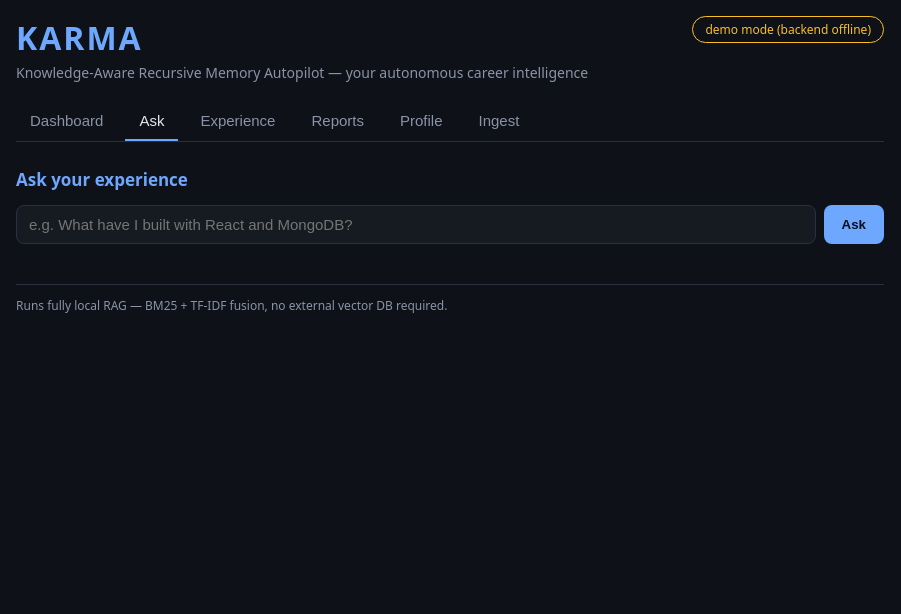
Scenario: failure feedback + demo fallback correctness › demo data appears via API error (headline regression) when runs fail with HTTP error
Click the button with test id "tab-Dashboard" at (67, 122), box [16, 102, 117, 141]
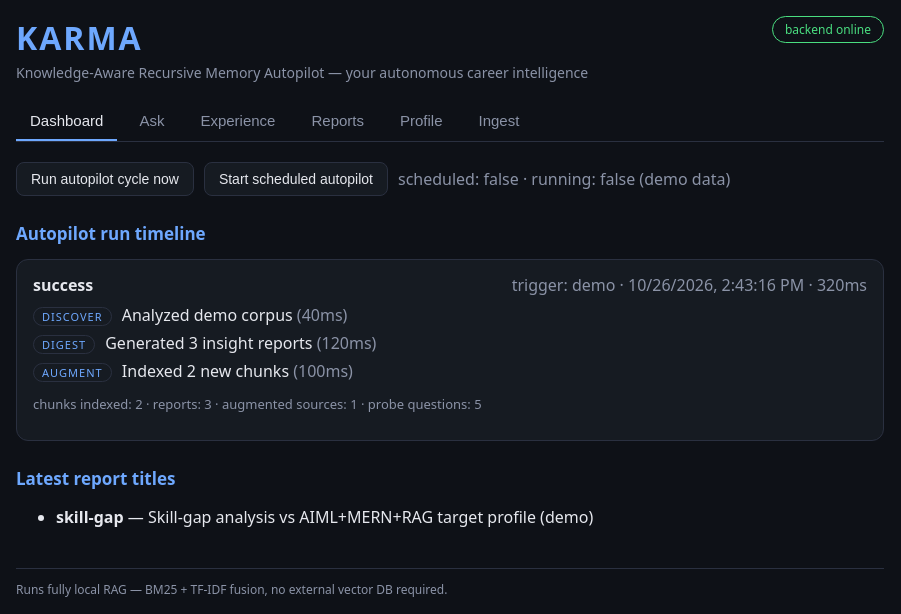
Check: the element with test id "run-card" is shown, box [16, 259, 884, 441]
Check: the text with test id "agent-status" shows "demo data", box [635, 168, 730, 190]
